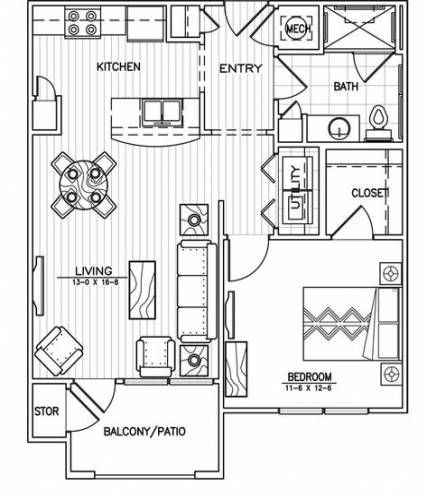door: (63, 377, 127, 436), (222, 3, 281, 52), (224, 236, 275, 289), (327, 195, 379, 243), (271, 50, 309, 104), (345, 50, 399, 87), (253, 192, 284, 234), (252, 150, 281, 185), (195, 3, 222, 40), (32, 67, 59, 103)
room: (27, 2, 221, 385), (226, 237, 408, 414), (274, 2, 402, 241), (67, 377, 222, 478), (198, 4, 276, 138), (201, 133, 278, 236), (29, 376, 70, 443)
wall: (394, 1, 420, 429), (22, 1, 40, 448), (25, 1, 411, 11), (213, 201, 228, 411), (211, 379, 230, 485), (218, 399, 279, 425), (367, 400, 415, 420), (27, 428, 70, 446), (195, 467, 233, 487), (67, 466, 99, 488), (63, 429, 76, 482)
window: (95, 460, 197, 491), (278, 397, 369, 429), (124, 371, 216, 398)
